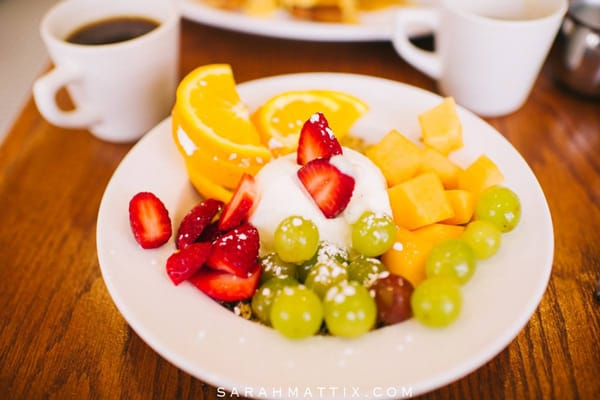pizza: (32, 0, 183, 143), (388, 1, 570, 119), (550, 0, 600, 101)
sushi: (96, 56, 577, 394)
taco: (171, 62, 274, 203), (251, 89, 370, 157)
